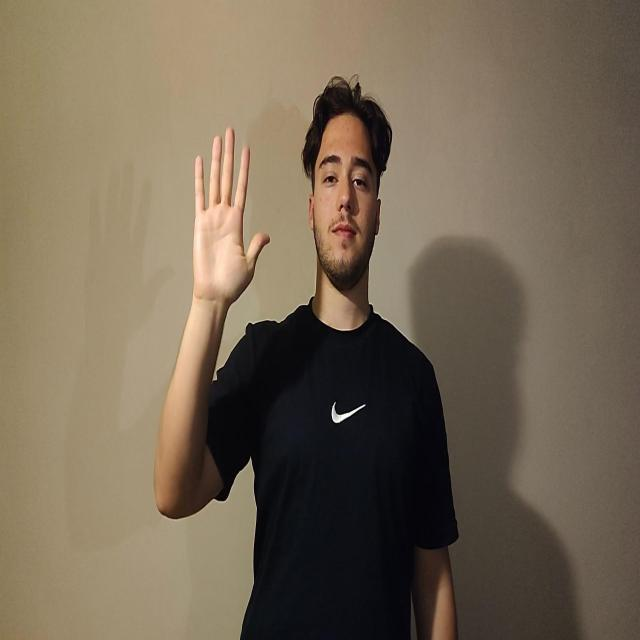hello: (192, 125, 270, 308)
